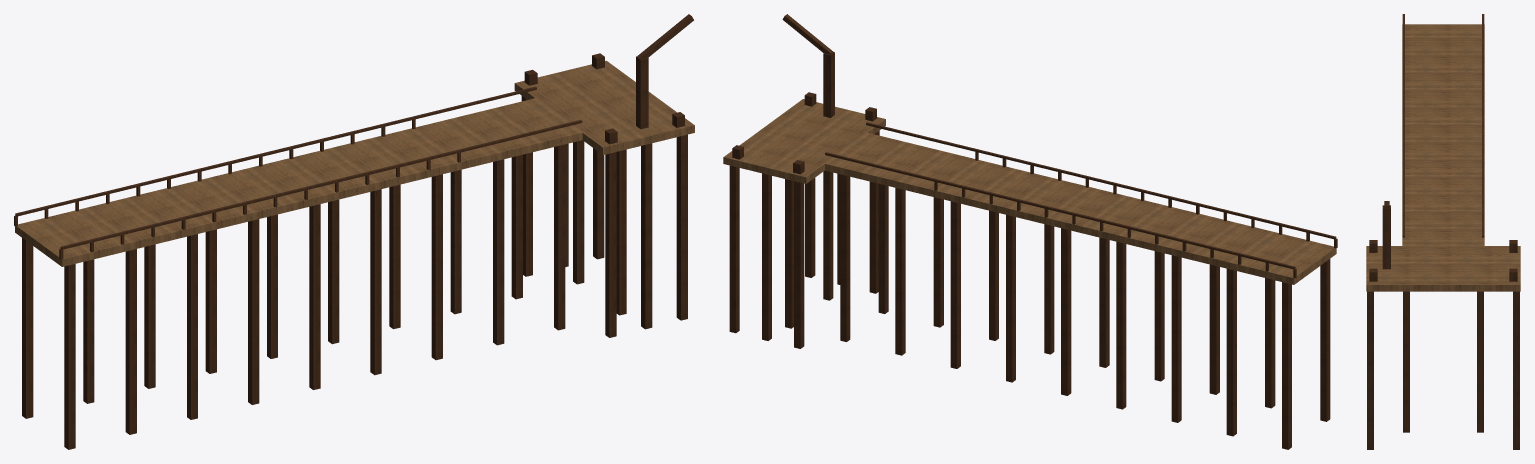
File: pier.glb
The picture shows the model from 3 angles, left to right: view 1: azimuth 30°, elevation 25°; view 2: azimuth 150°, elevation 25°; view 3: azimuth 270°, elevation 25°; orthographic projection. The views are drawn at different scales.
Parts seen in each view (by area): view 1: pier_export; view 2: pier_export; view 3: pier_export.
Part boxes in pixels (<box>): pier_export: <box>14,14,694,449</box>; pier_export: <box>723,14,1337,449</box>; pier_export: <box>1366,14,1520,449</box>.
Size of the model in its own units: 60 by 26.88 by 14.74.
2 materials, 2 textured.
